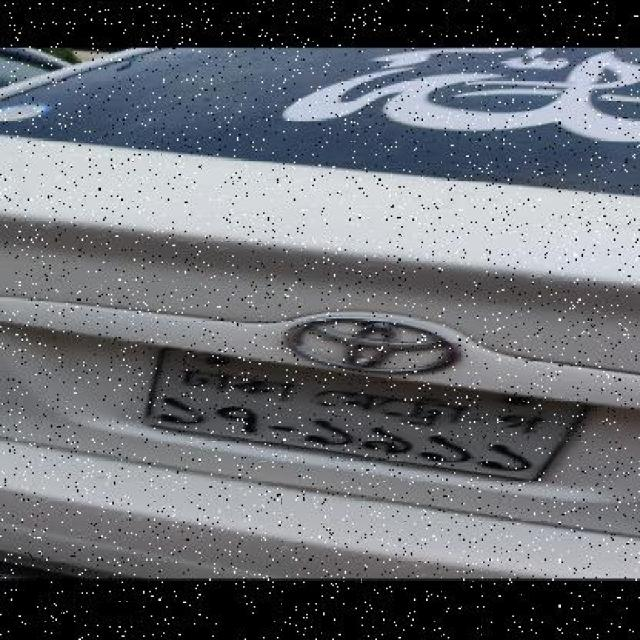numberplate: (140, 345, 589, 483)
